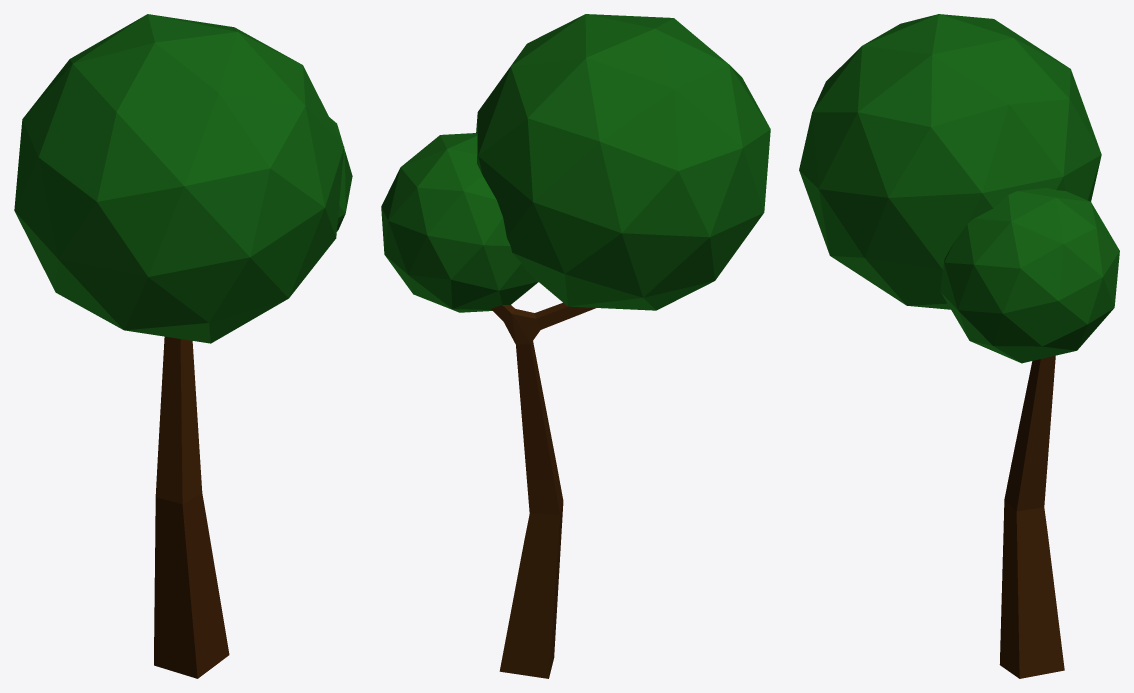
File: Tree1.4.fbx
3 views of the same model, side by side, from view 1: azimuth 30°, elevation 25°; view 2: azimuth 150°, elevation 25°; view 3: azimuth 270°, elevation 25° (orthographic). The views are drawn at different scales.
Visible parts, largest first — view 1: Icosphere.009, Tree1.4, Icosphere.010; view 2: Icosphere.009, Icosphere.010, Tree1.4; view 3: Icosphere.009, Icosphere.010, Tree1.4.
Boxes of the visible parts, bbox=[...] form: Icosphere.009: bbox=[14, 14, 344, 343]; Tree1.4: bbox=[154, 336, 229, 678]; Icosphere.010: bbox=[329, 117, 352, 231]; Icosphere.009: bbox=[476, 14, 770, 310]; Icosphere.010: bbox=[381, 133, 538, 312]; Tree1.4: bbox=[491, 303, 595, 678]; Icosphere.009: bbox=[799, 14, 1101, 309]; Icosphere.010: bbox=[940, 188, 1119, 363]; Tree1.4: bbox=[999, 355, 1064, 678].
Size of the model in its own units: 385 by 734 by 346.
